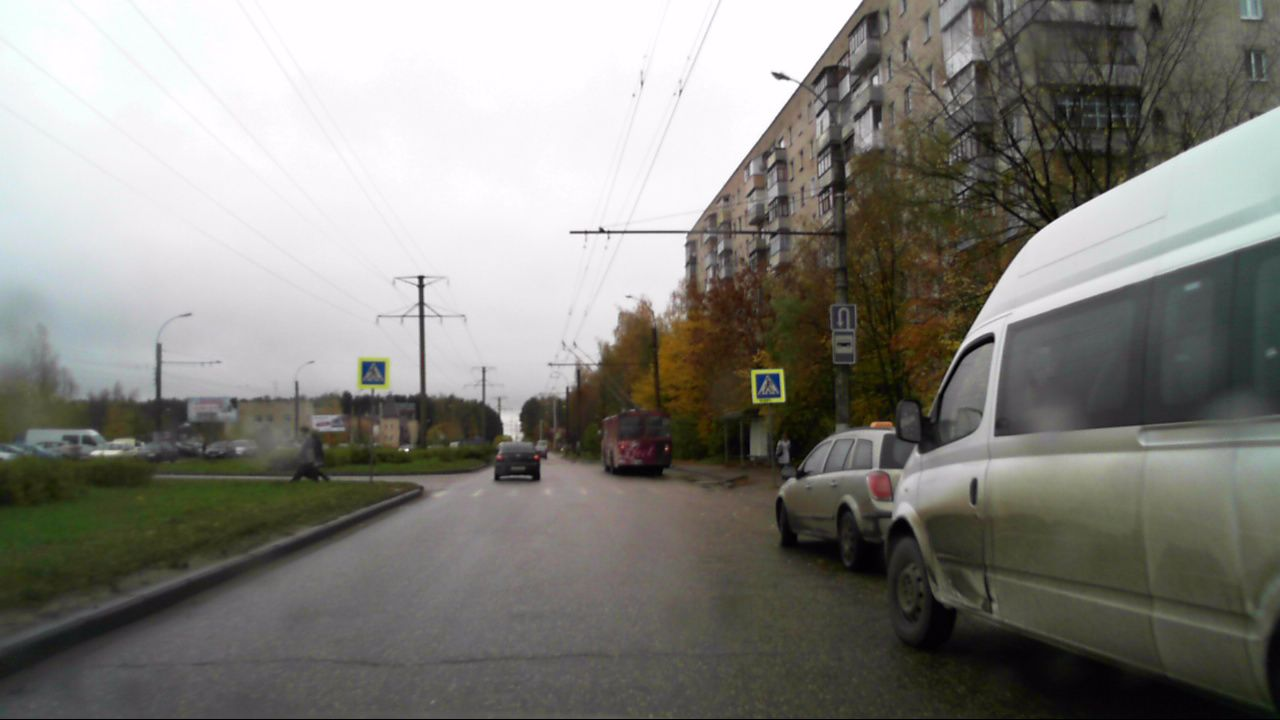U-turn: (831, 305, 855, 329)
